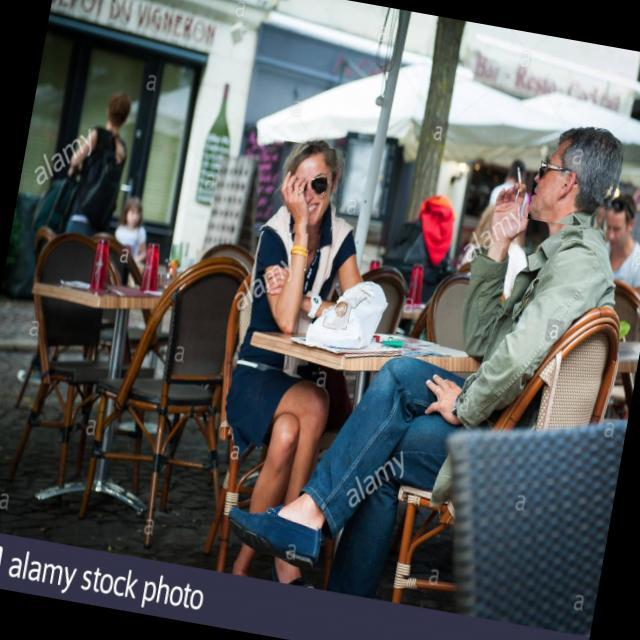cigarette: (508, 159, 532, 196)
